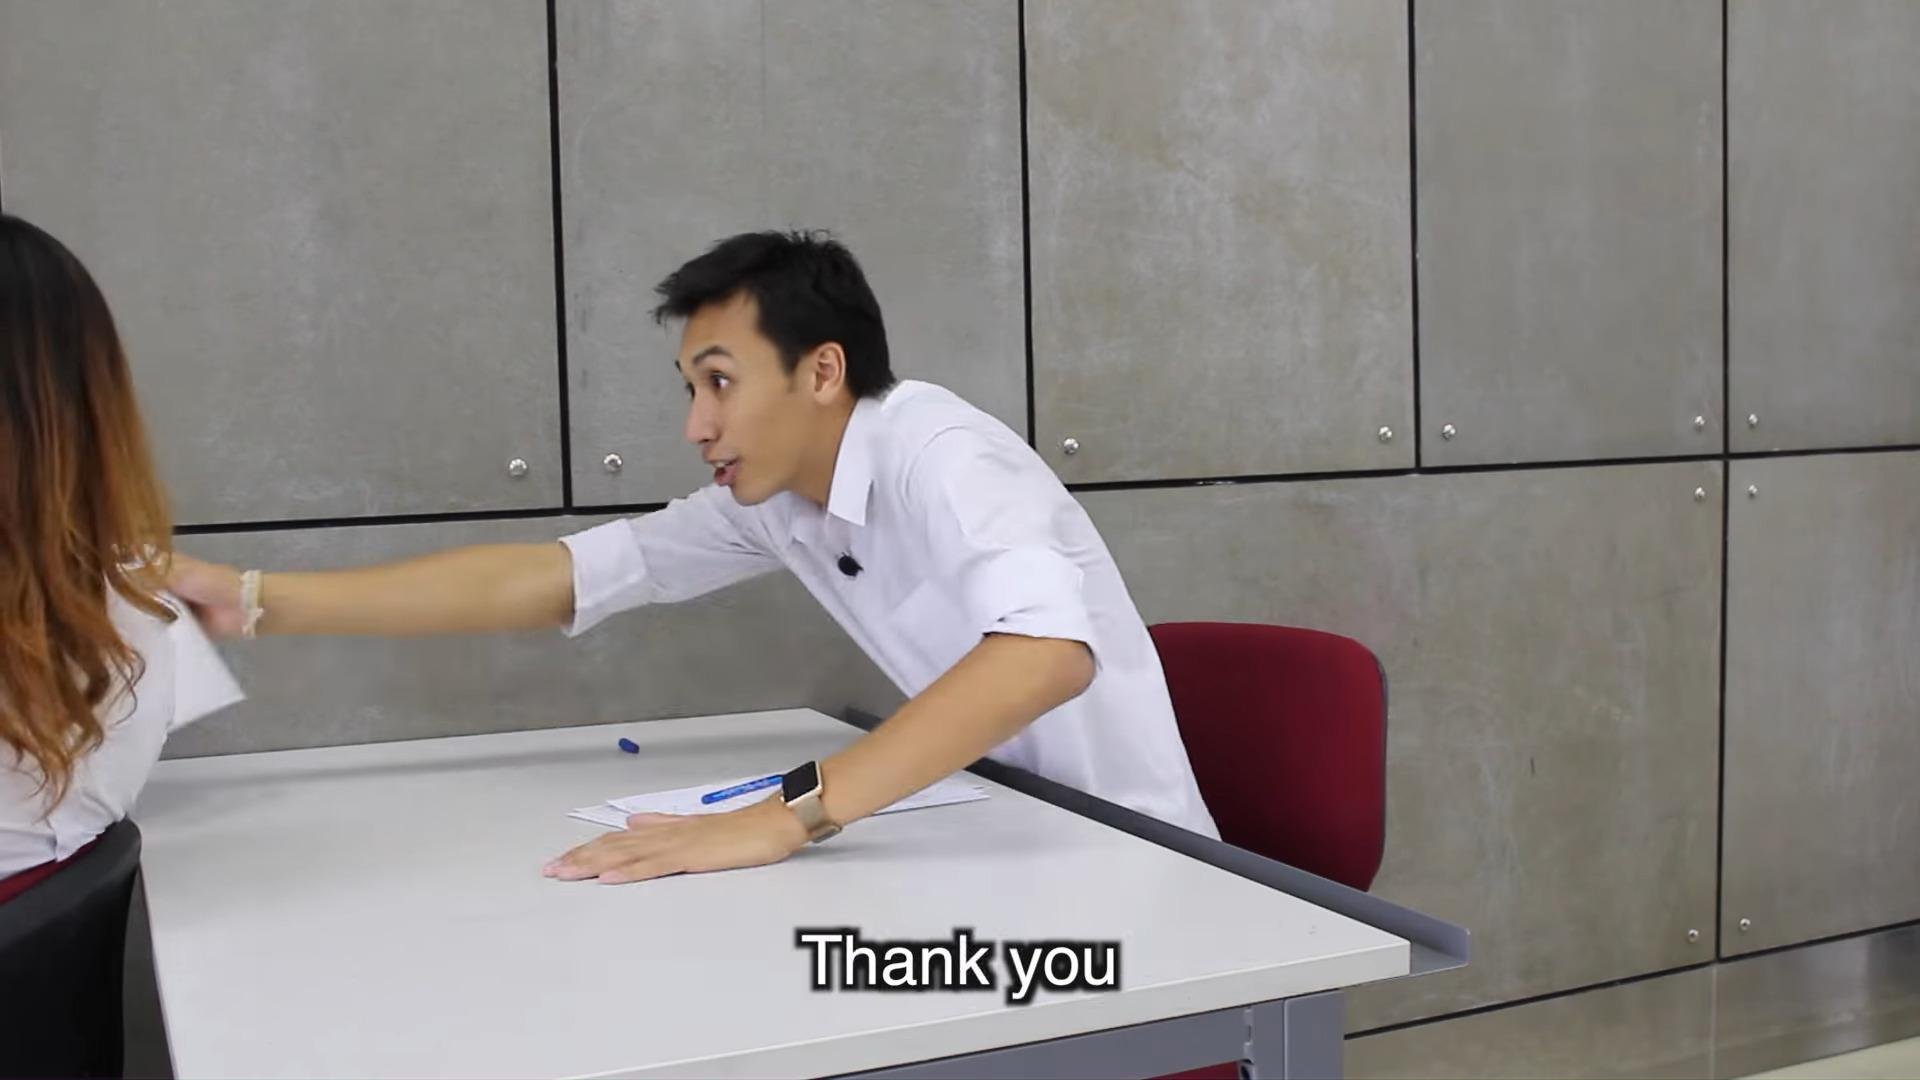cheating: (198, 170, 1275, 902)
